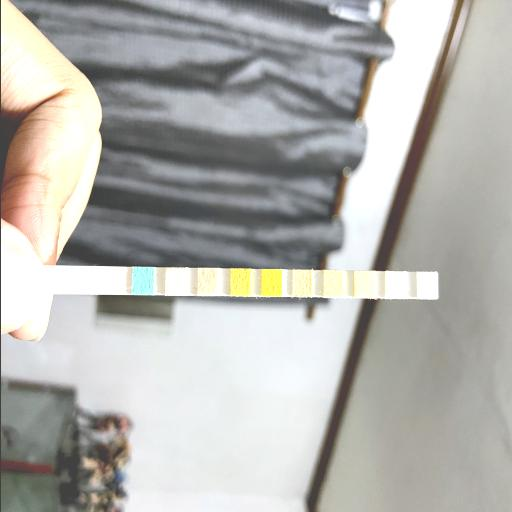Bilirubin: (165, 270, 185, 294)
Blood: (262, 270, 280, 296)
Glucose: (132, 268, 152, 294)
Ketone: (198, 269, 216, 295)
Leukocytes: (417, 272, 436, 298)
Nitrite: (386, 273, 404, 297)
Protein: (324, 271, 342, 297)
SpGravity: (231, 270, 249, 294)
Urobilinogen: (354, 272, 372, 298)
pH: (292, 270, 310, 294)
strip: (48, 266, 436, 300)
